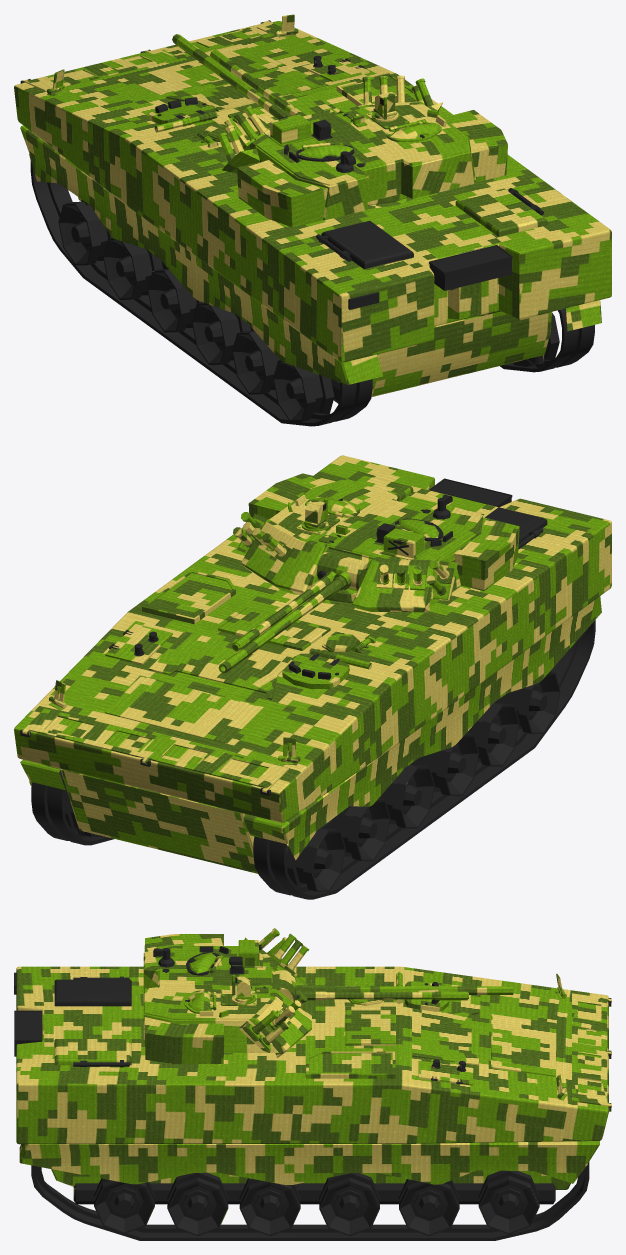
3 views of the same model, one above another, from view 1: azimuth 30°, elevation 25°; view 2: azimuth 150°, elevation 25°; view 3: azimuth 270°, elevation 25° (orthographic). The views are drawn at different scales.
Visible parts, largest first — view 1: TJC1, polySurface2, polySurface45; view 2: TJC1, polySurface2, polySurface45; view 3: TJC1, polySurface2, polySurface45.
Boxes of the visible parts, <box> form: TJC1: <box>14,14,611,426</box>; polySurface2: <box>217,75,507,227</box>; polySurface45: <box>172,34,306,119</box>; TJC1: <box>14,455,611,899</box>; polySurface2: <box>233,473,519,612</box>; polySurface45: <box>218,571,351,673</box>; TJC1: <box>14,966,611,1240</box>; polySurface2: <box>143,928,311,1063</box>; polySurface45: <box>295,983,513,1000</box>.
Bounding box in the file's own units: 326 × 286 × 694.
1 material, 1 textured.
